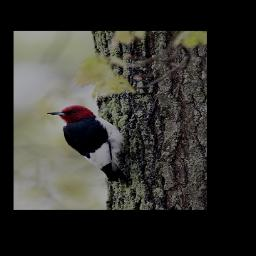Woodpecker: (46, 105, 127, 183)
